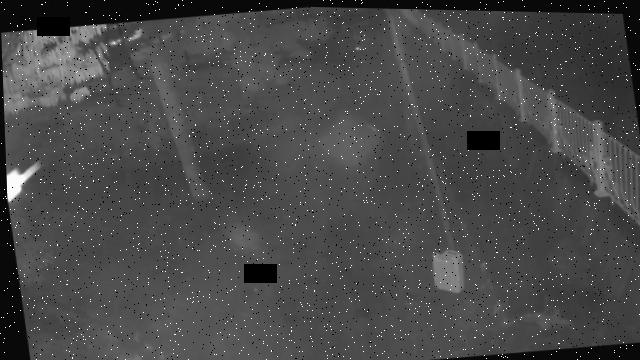bag: (426, 243, 465, 292)
